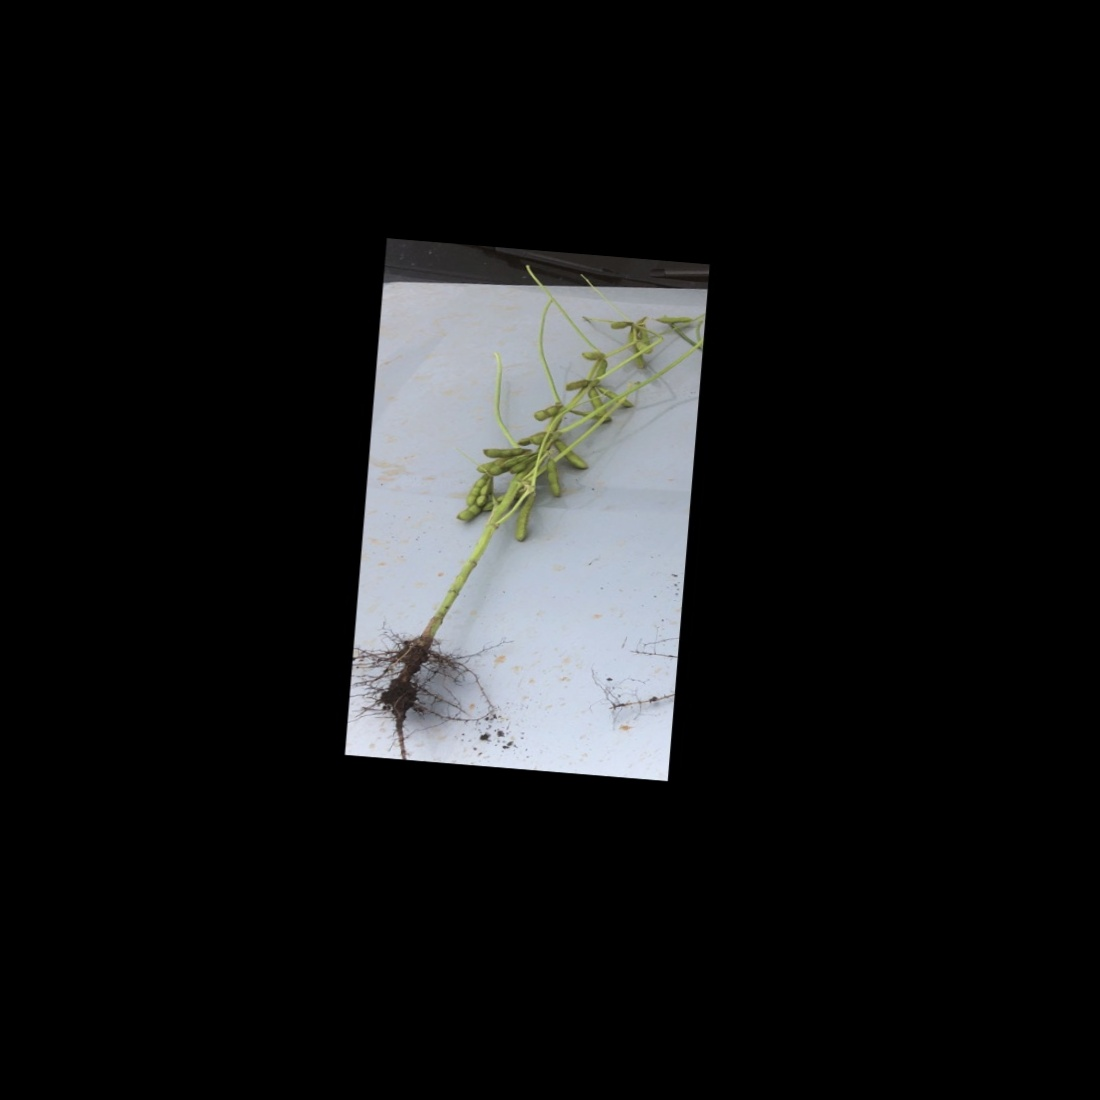pod: (549, 435, 595, 474), (514, 492, 539, 547), (537, 455, 566, 501), (593, 383, 637, 409), (482, 440, 532, 462), (651, 310, 699, 330), (527, 400, 563, 425), (562, 375, 595, 394), (576, 348, 606, 363)
soy: (361, 271, 701, 758)
